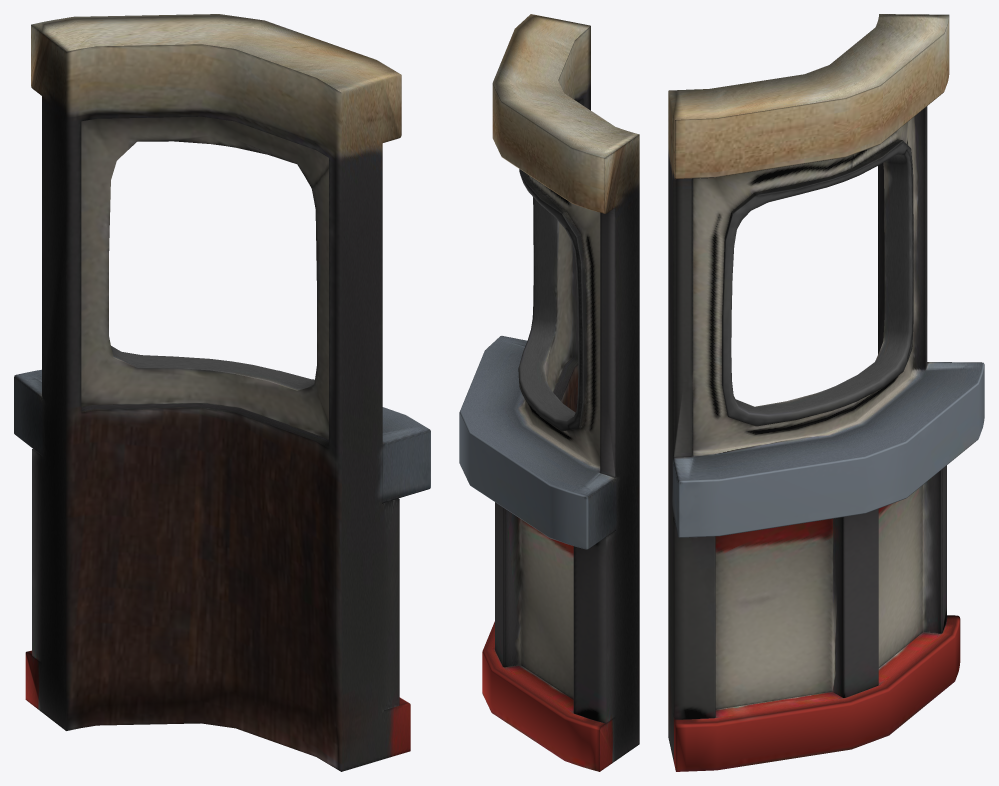
The model's file is D_CurvedWindowBR.fbx.
3 views of the same model, side by side, from view 1: azimuth 30°, elevation 25°; view 2: azimuth 150°, elevation 25°; view 3: azimuth 270°, elevation 25° (orthographic). The views are drawn at different scales.
Visible parts, largest first — view 1: pCube72; view 2: pCube72; view 3: pCube72.
Part boxes in pixels (x1,y1,x2,y2): pCube72: (14,14,430,771); pCube72: (459,14,639,771); pCube72: (668,14,984,771).
Bounding box in the file's own units: 2.14 × 5.35 × 2.37.
Materials: 1 (1 with a texture image).
